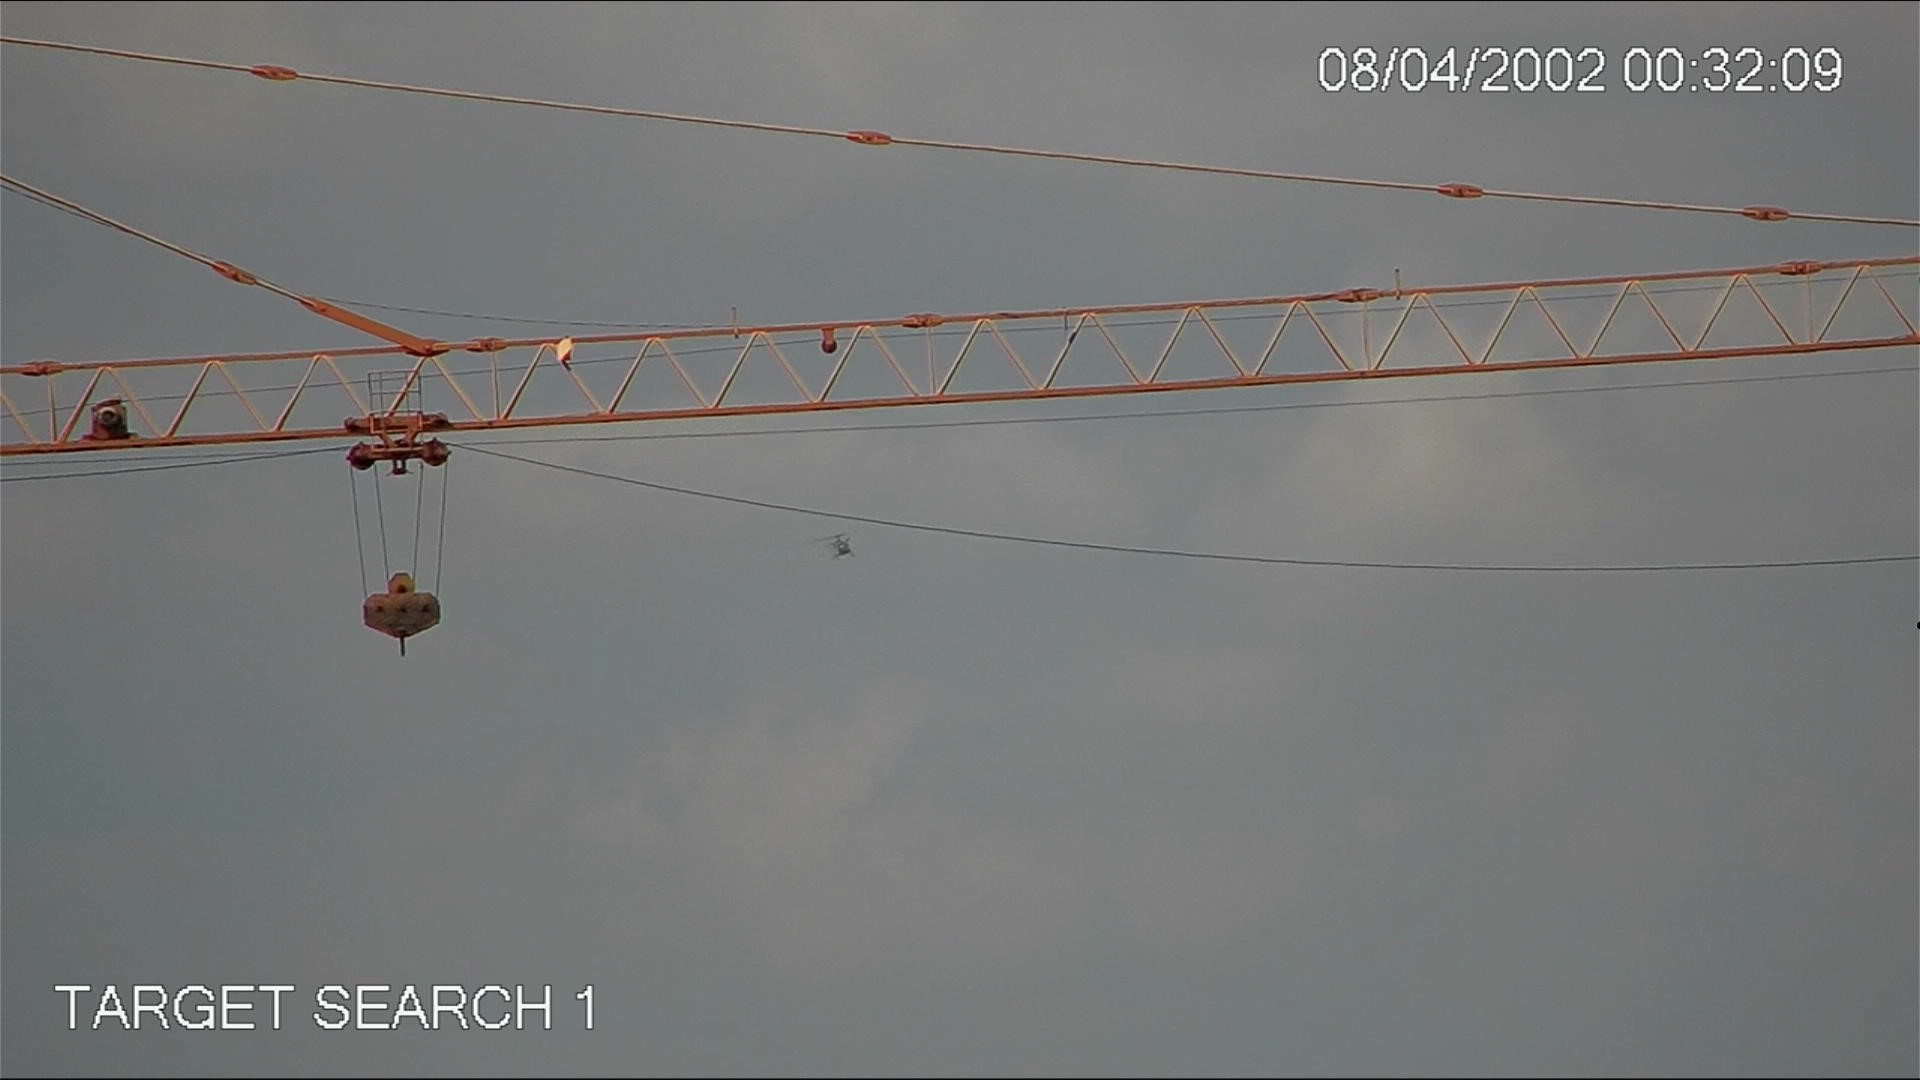SU_30: (816, 524, 864, 568)
